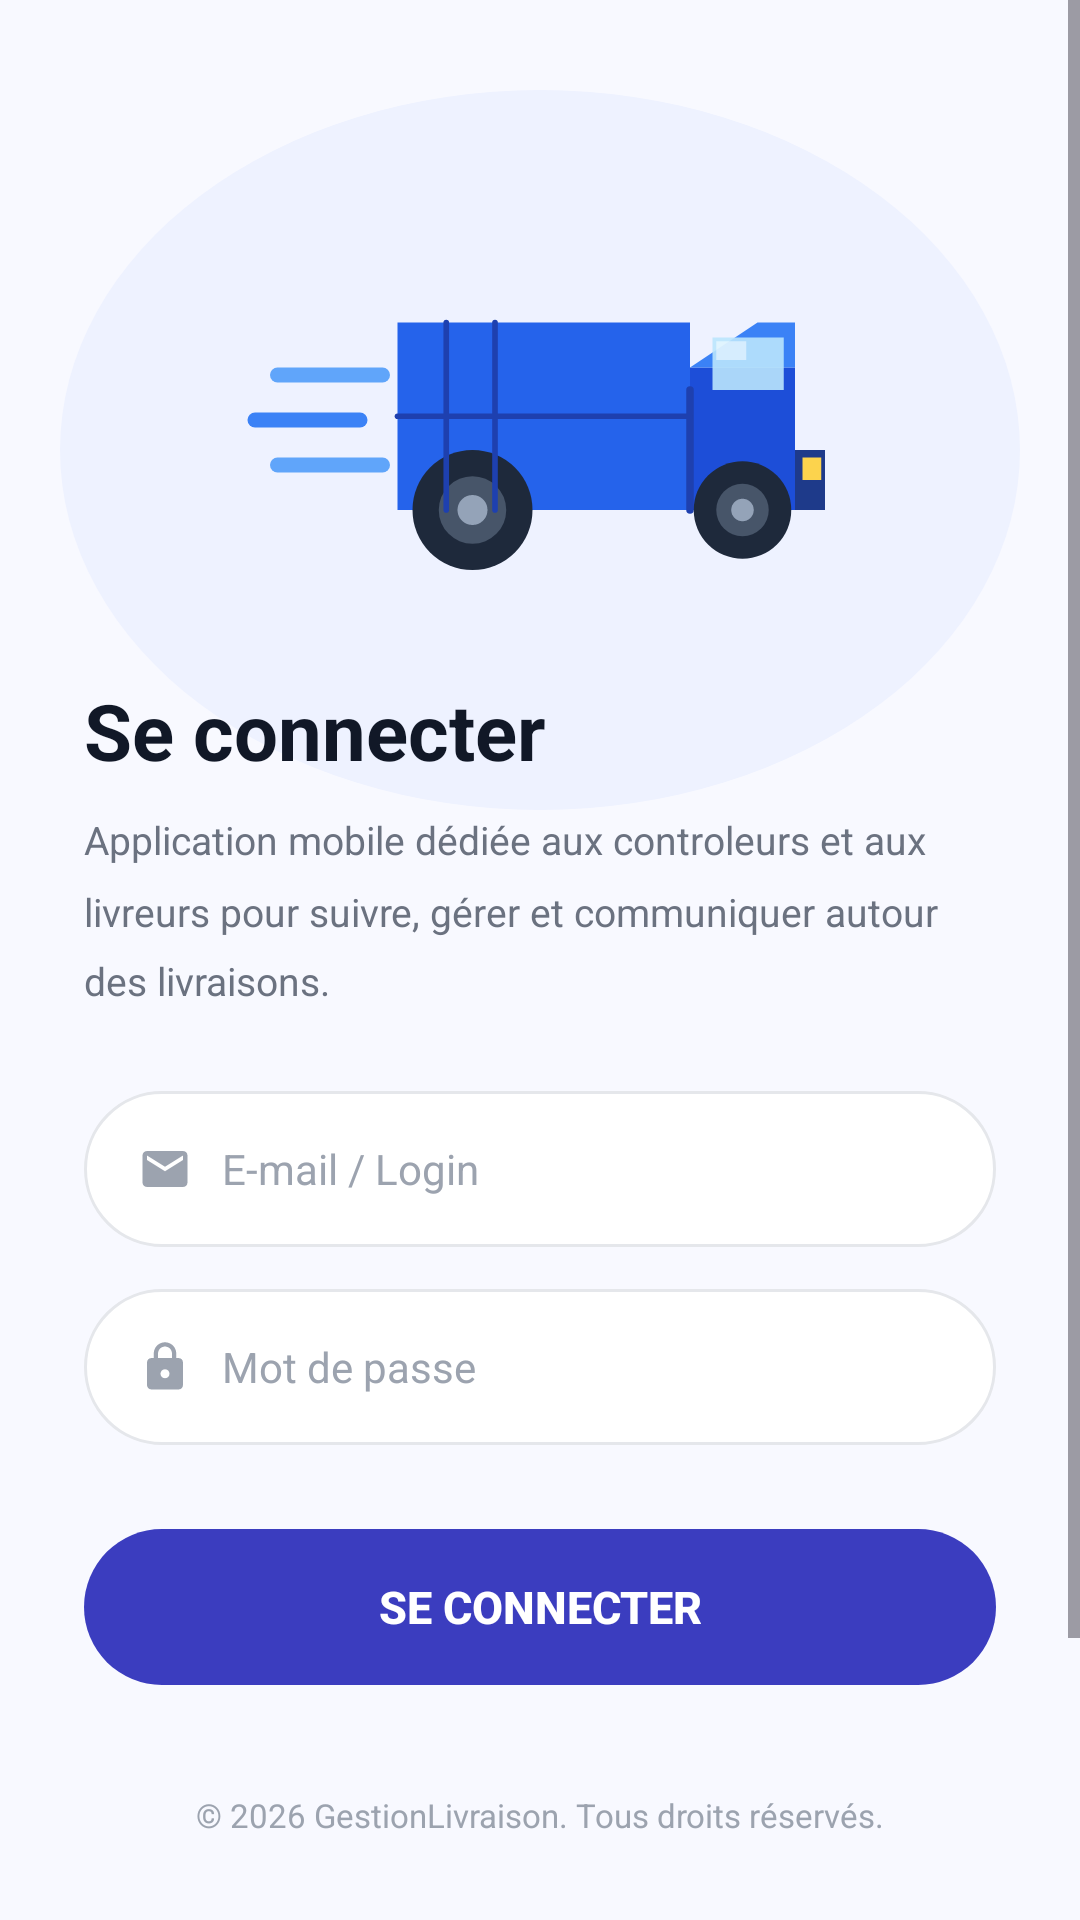

Screen size 1080x1920. Icon name, then its box in pixels as (x1, y1, x2, y2):
Email icon: (142, 1151, 188, 1187)
Lock icon: (147, 1342, 183, 1390)
